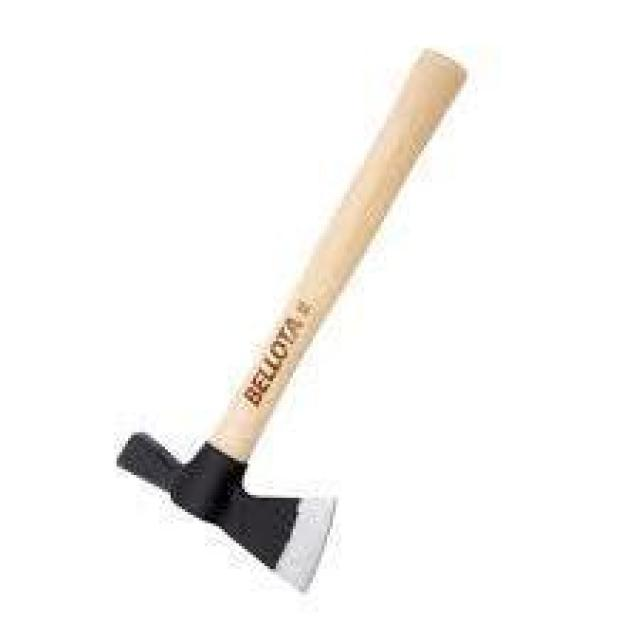Kapak: (67, 35, 482, 579)
